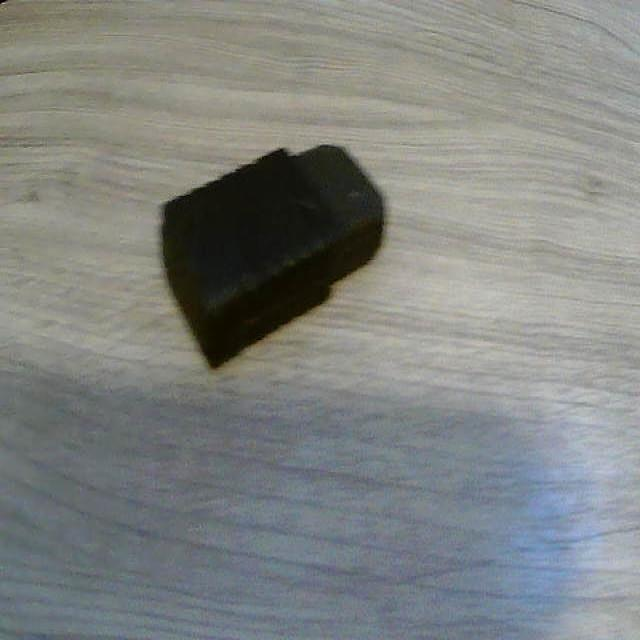borracha: (135, 130, 432, 383)
